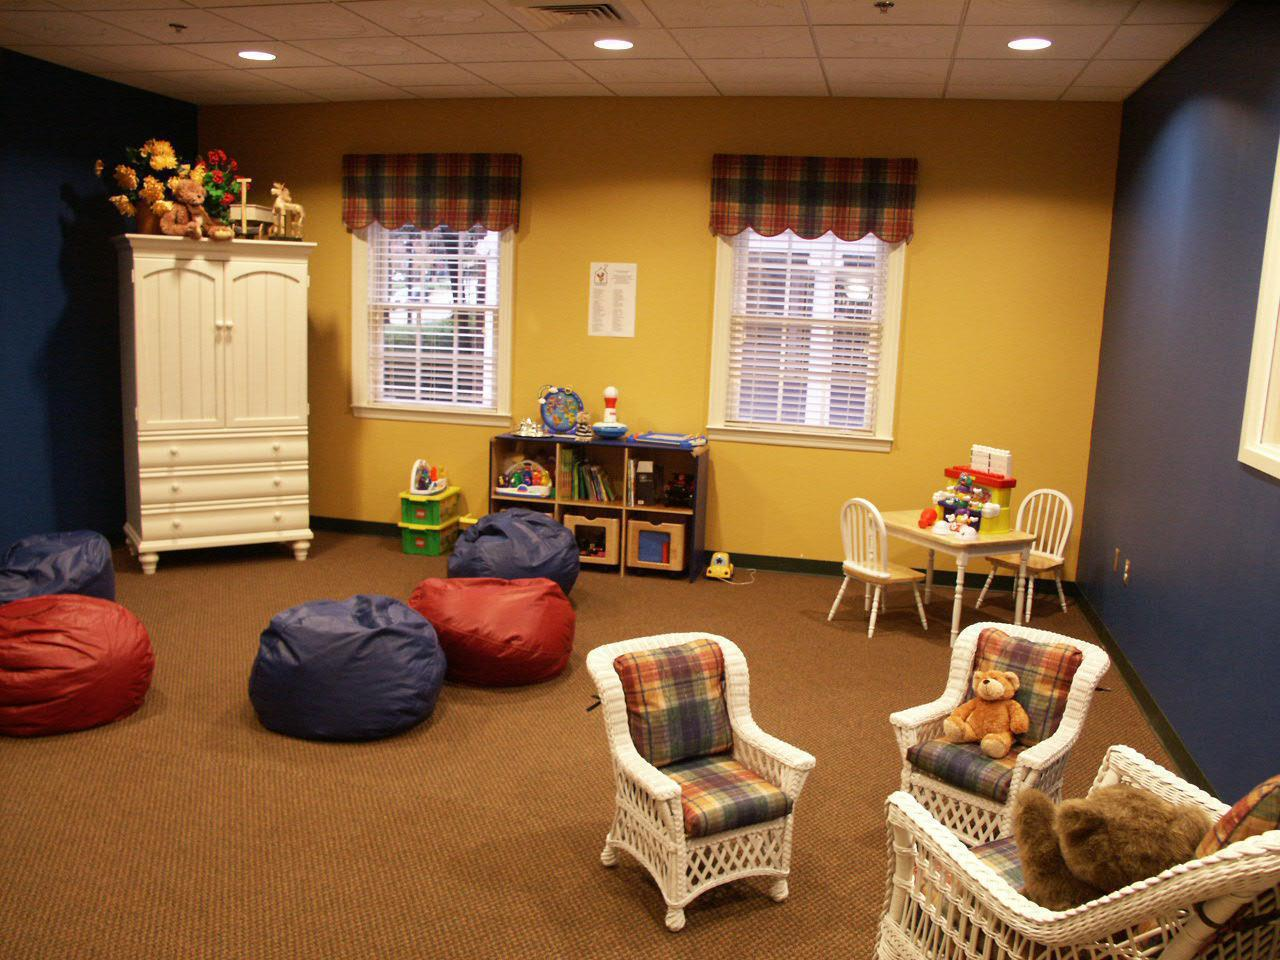Armario: (121, 240, 315, 562)
